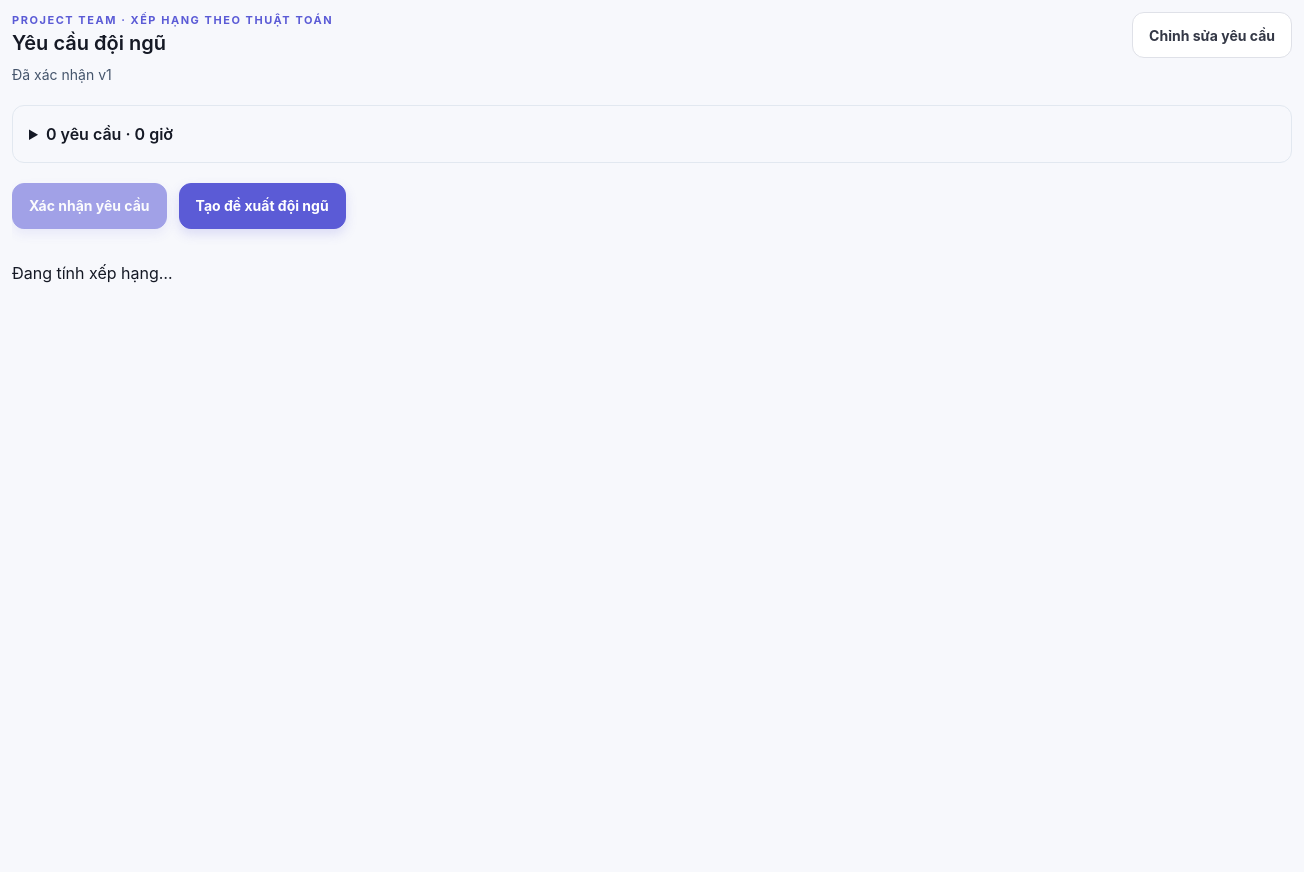
Test: TeamPanel › requires a rejection reason, records reject feedback and creates no team membership
Click the button "Tạo đề xuất đội ngũ" at (262, 206), box [179, 182, 346, 228]
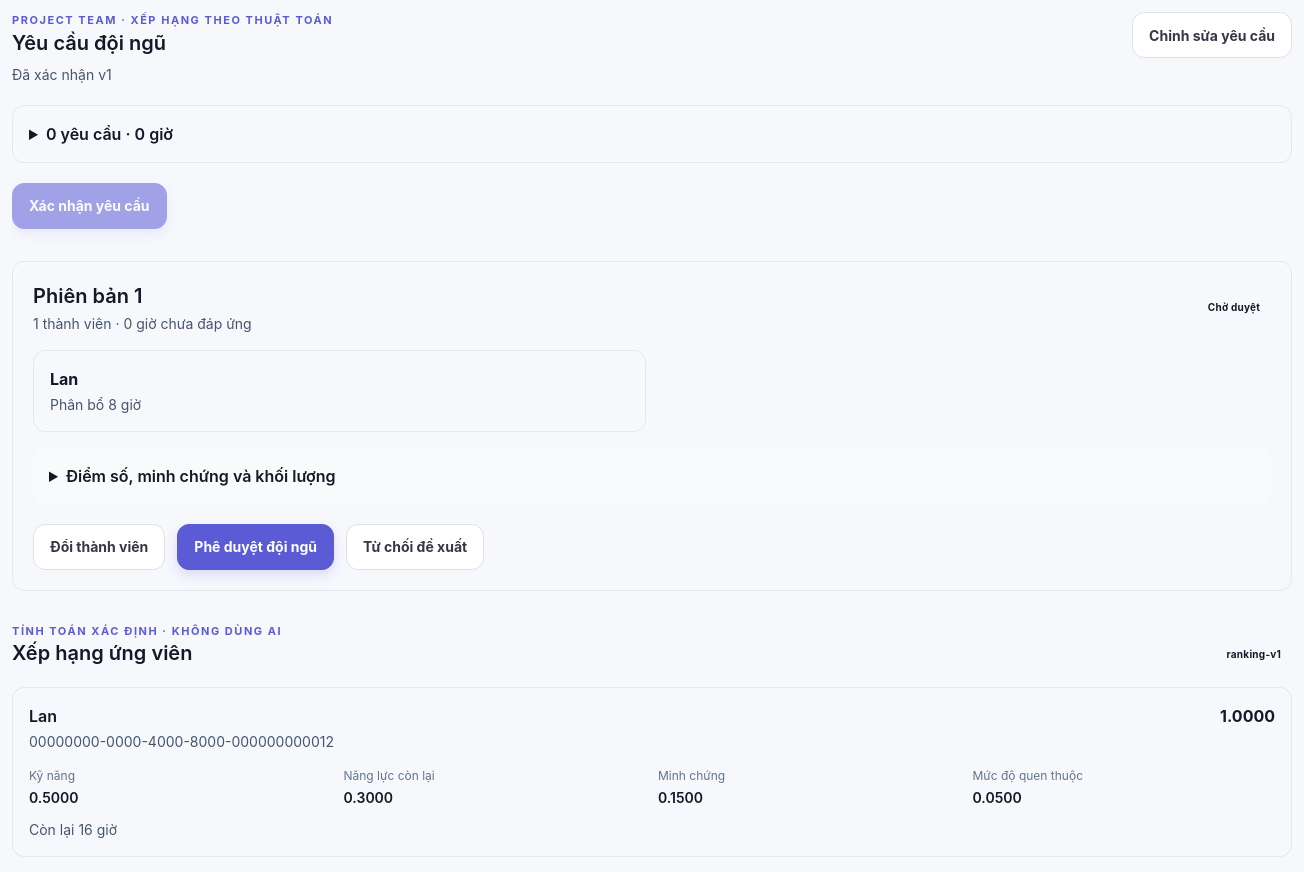
Click the button "Từ chối đề xuất" at (415, 546), box [346, 524, 484, 570]
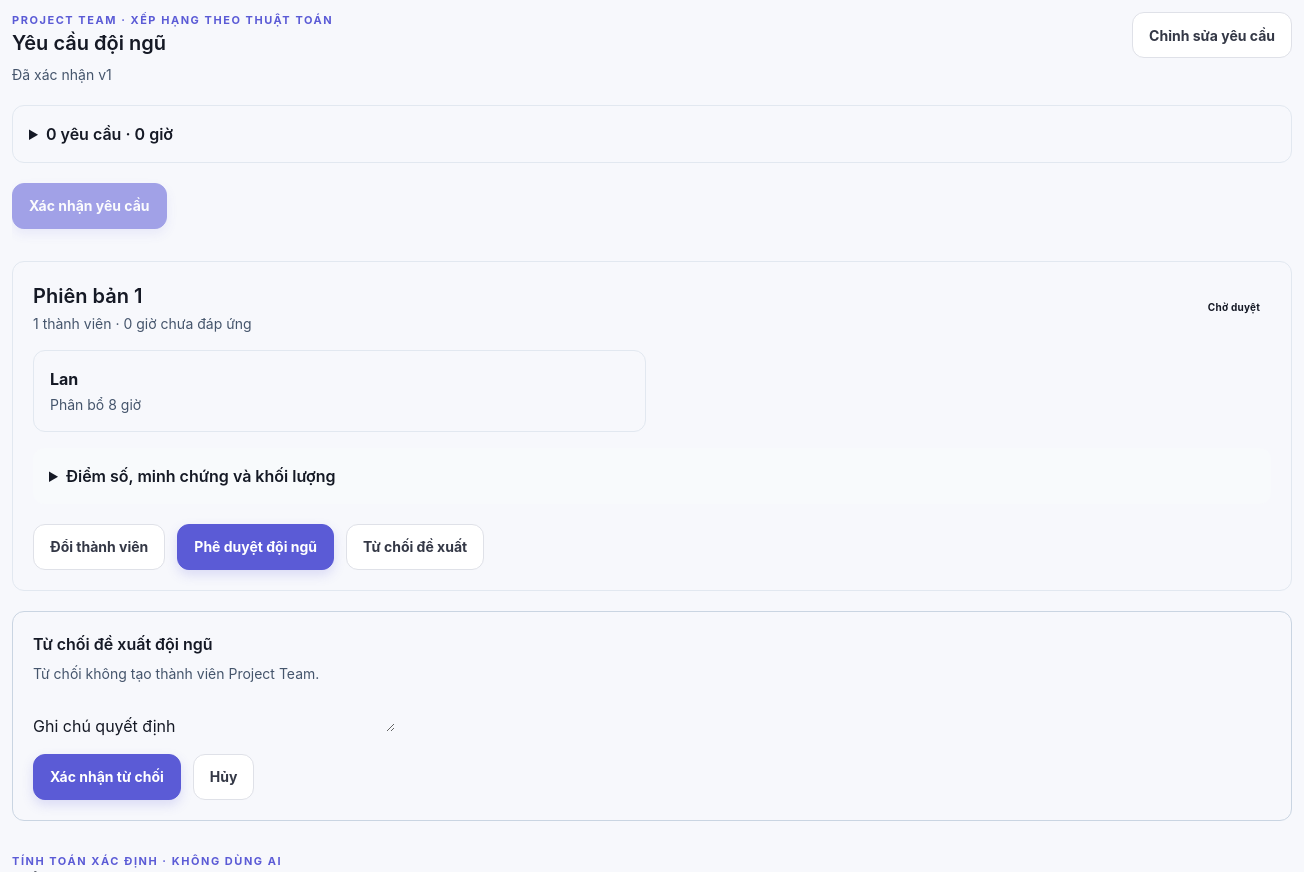
Click the button "Xác nhận từ chối" at (107, 777), box [33, 754, 181, 800]
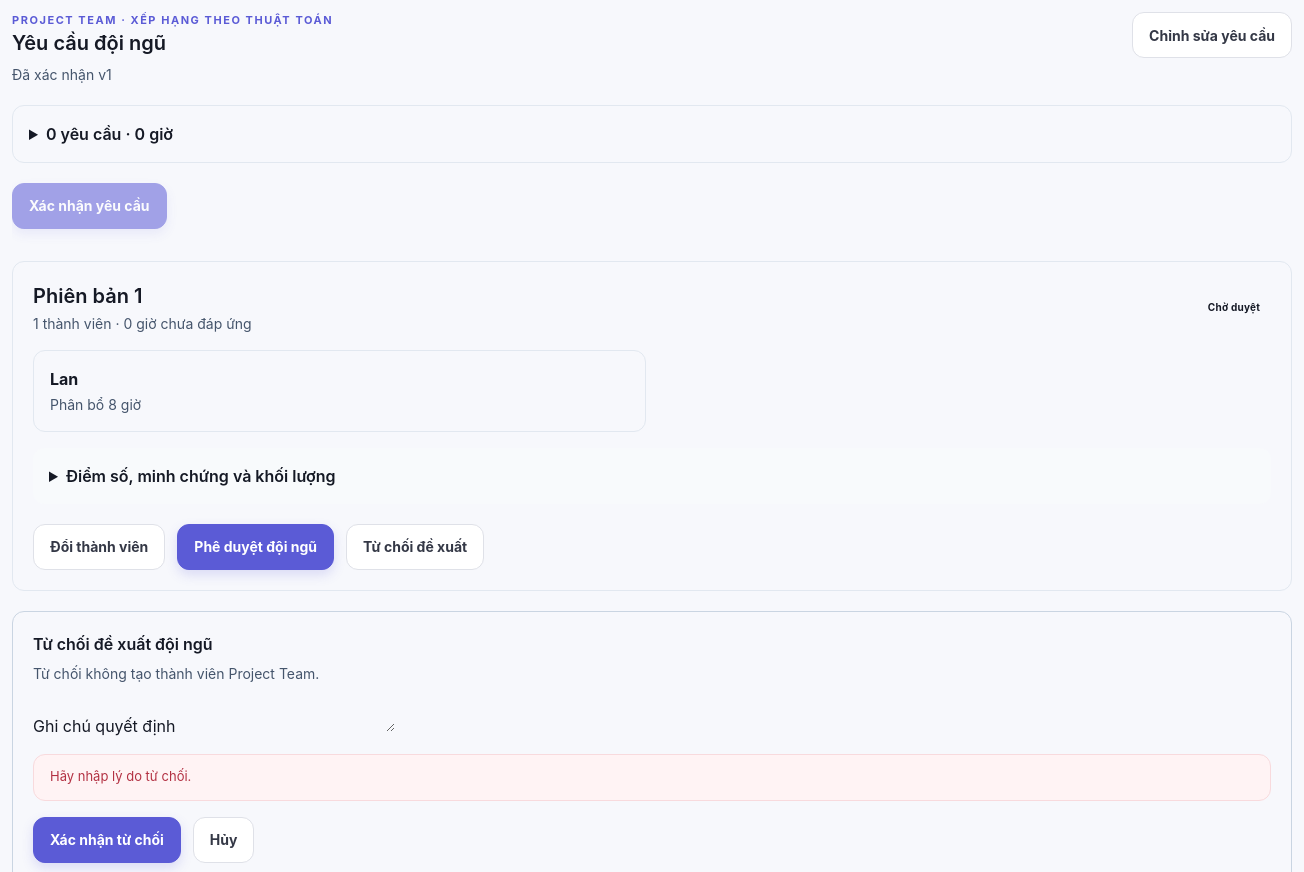
expect the text "Hãy nhập lý do từ chối." is shown: met, box [33, 754, 1271, 801]
Type "Cần cân đối lại năng lực" into the text box labelled "Ghi chú quyết định" at (286, 708), box [176, 684, 396, 732]
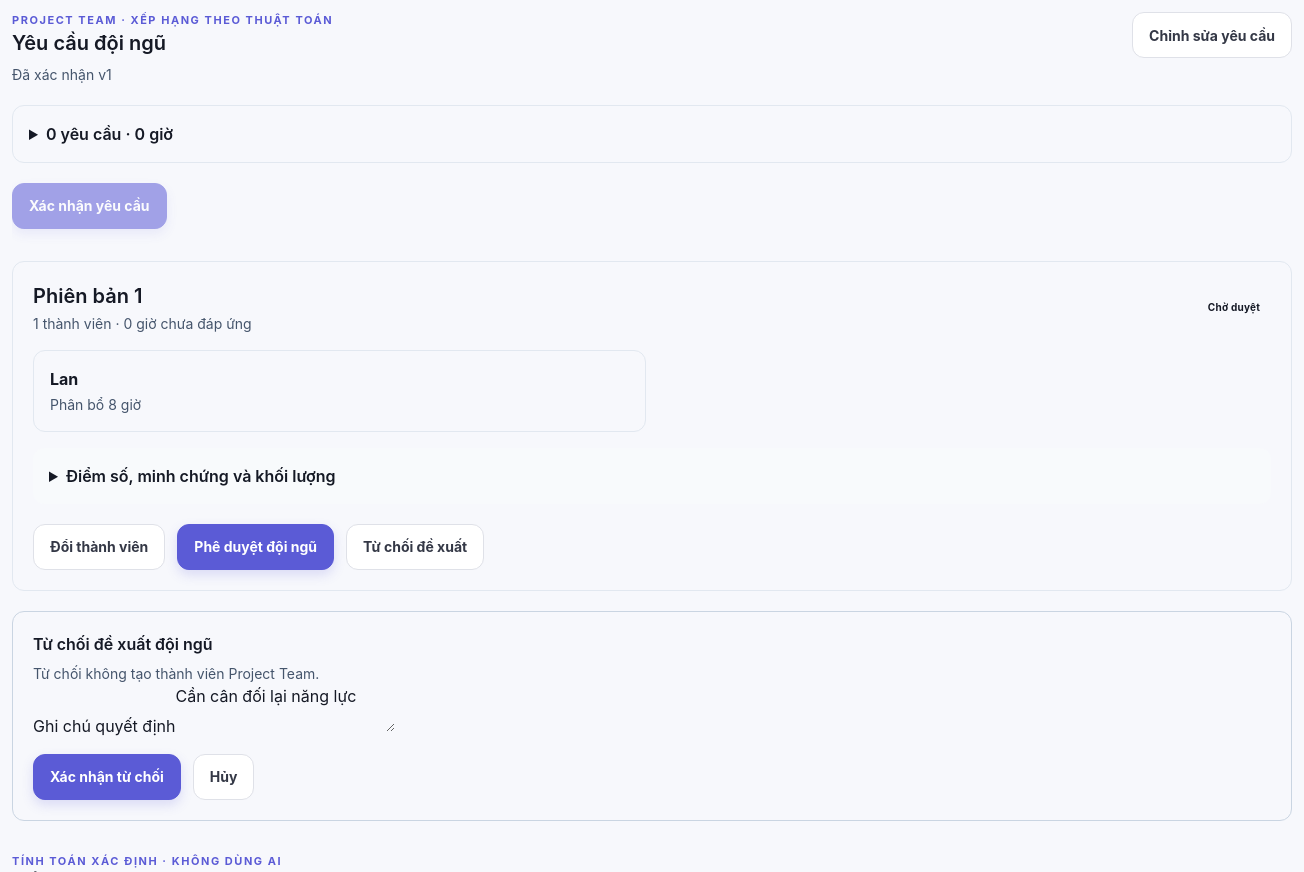
Click the button "Xác nhận từ chối" at (107, 777), box [33, 754, 181, 800]
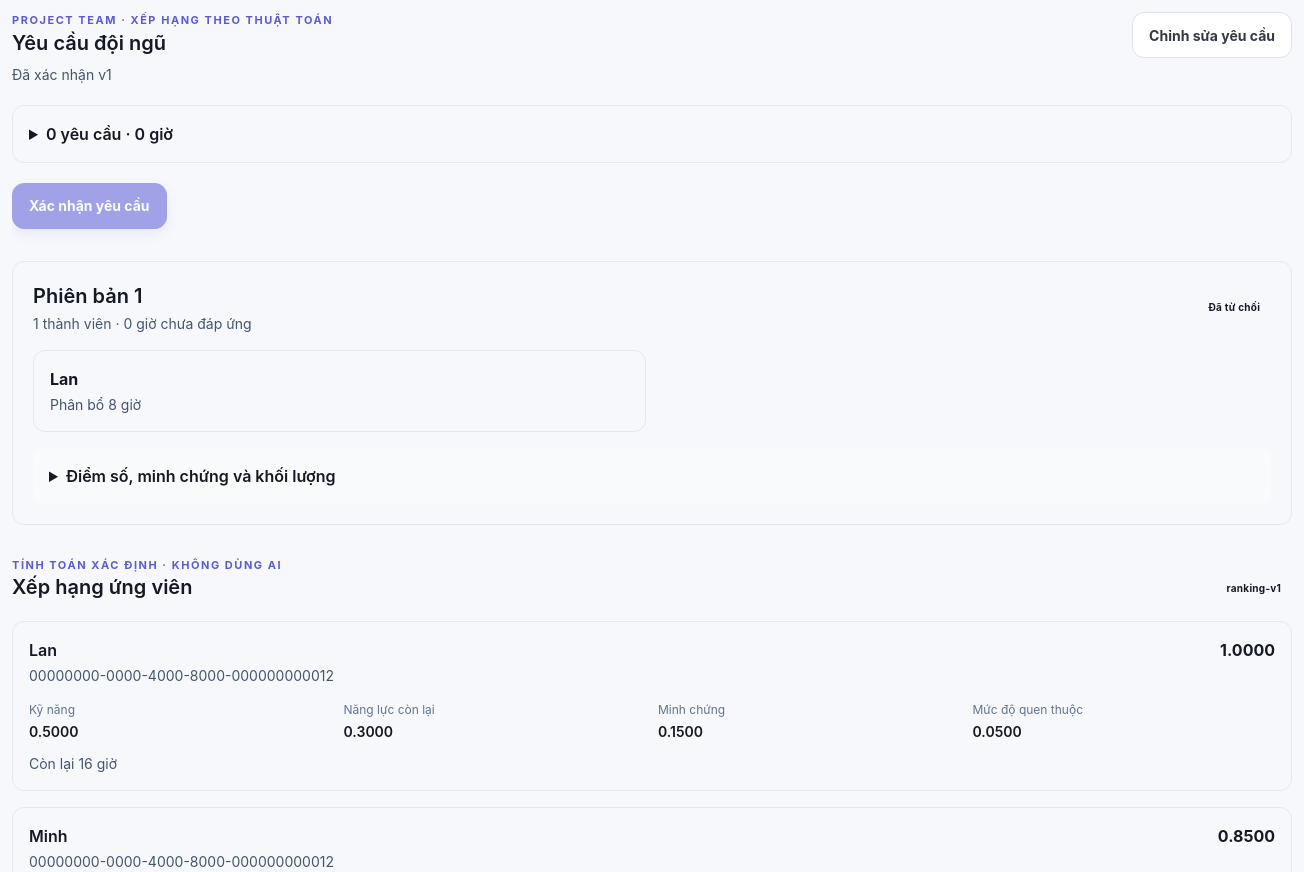
expect the text "Đã từ chối" is shown: met, box [1208, 301, 1260, 313]
